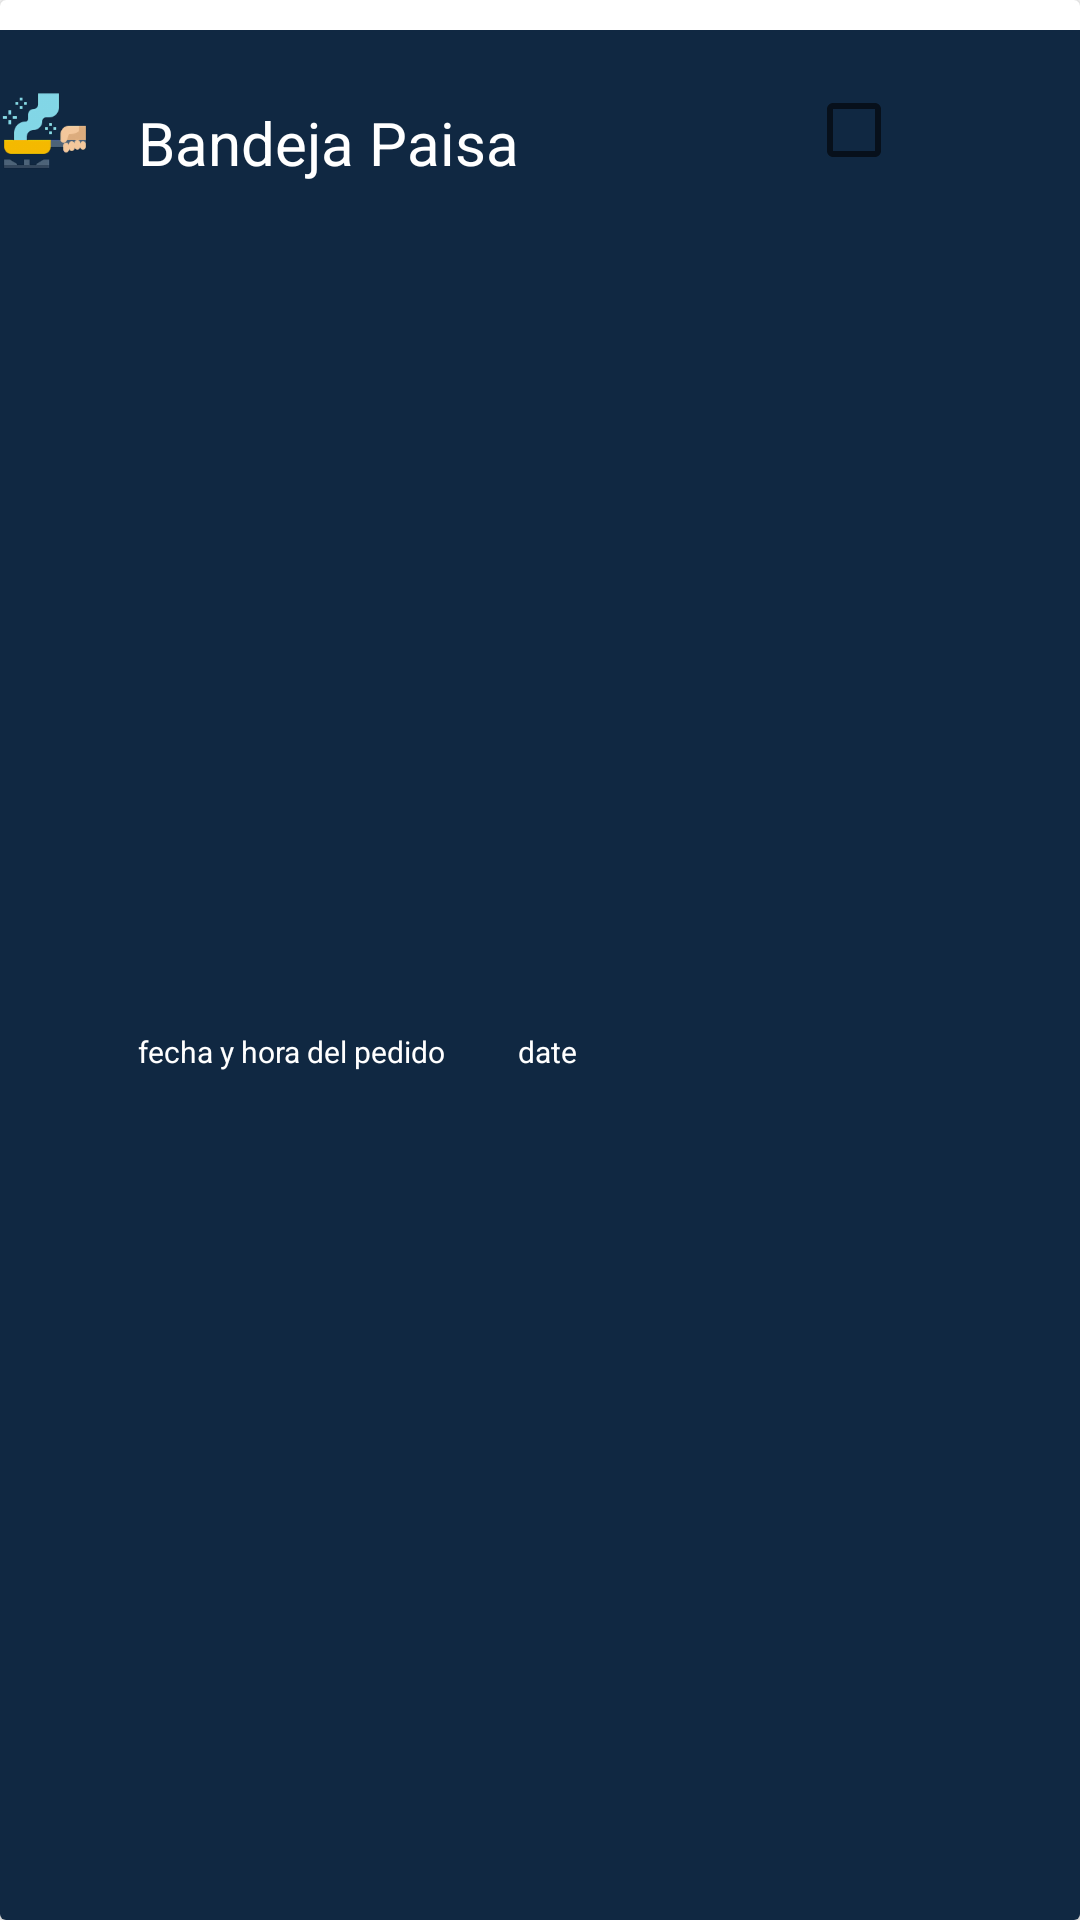

Named icons in this screenshot (1080px x 1920px) and their bounding boxes, [left=x1, top=y1, right=x2, bottom=y2]:
sarten: [left=3, top=93, right=86, bottom=168]
